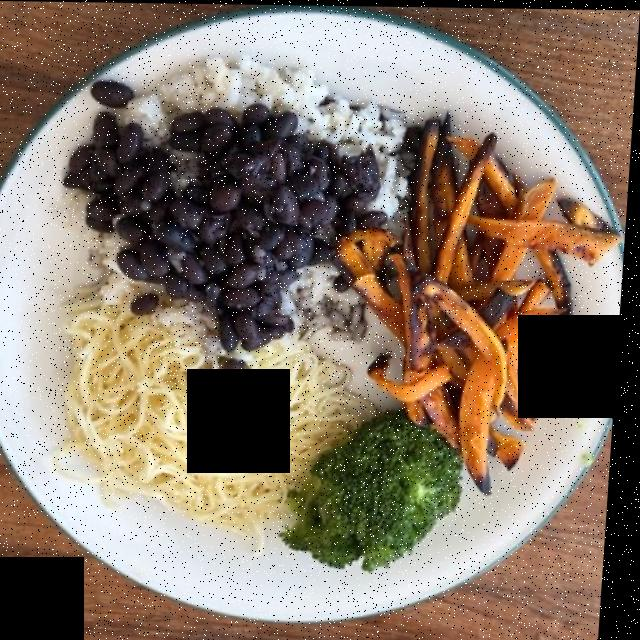beans-kidney: (68, 74, 382, 348)
broccoli: (287, 410, 462, 561)
pasta-spaghetti: (80, 265, 373, 531)
rice: (122, 69, 403, 343)
sweet-potato: (341, 124, 617, 478)
